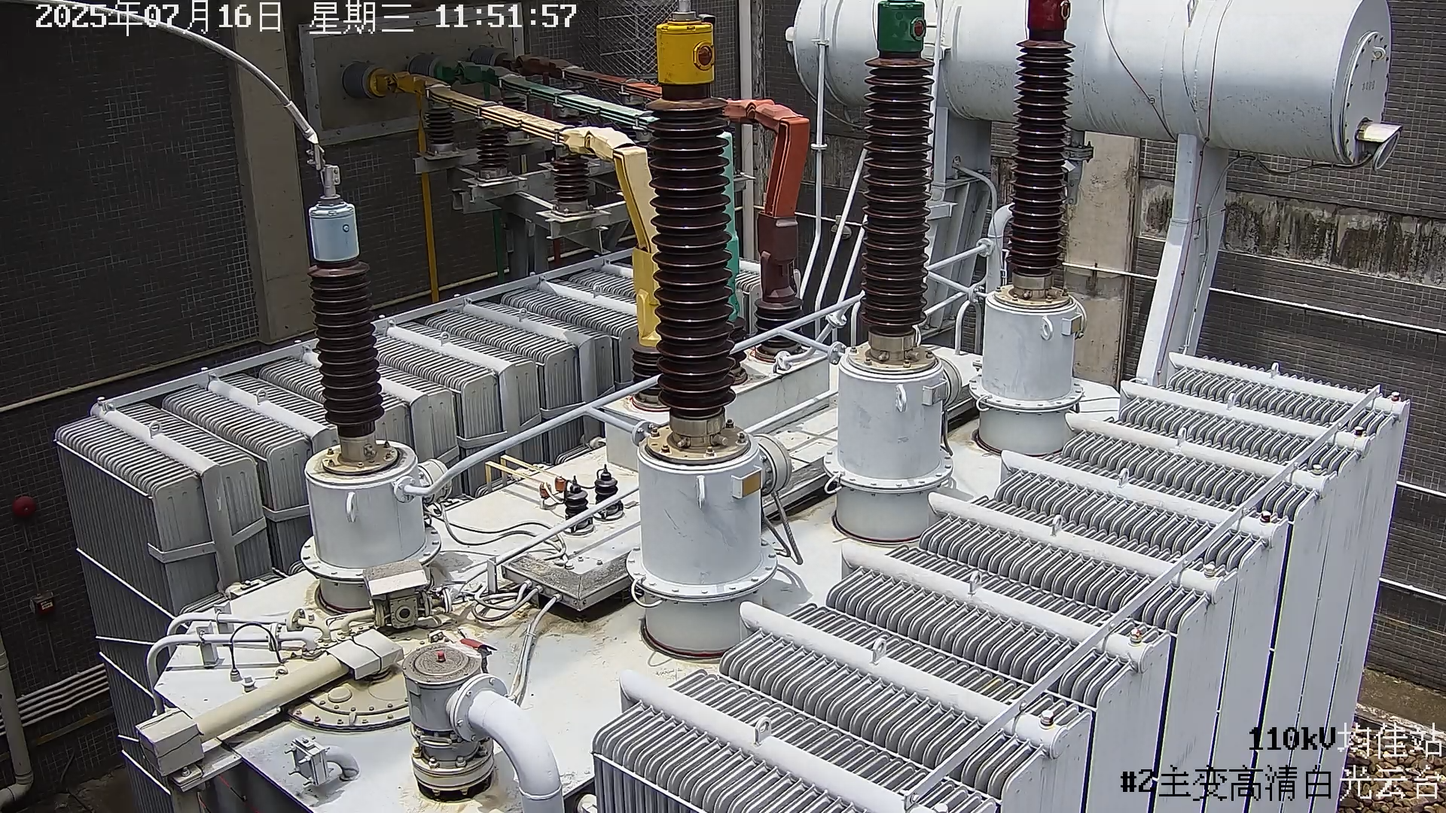MainTR: (50, 1, 1412, 813)
